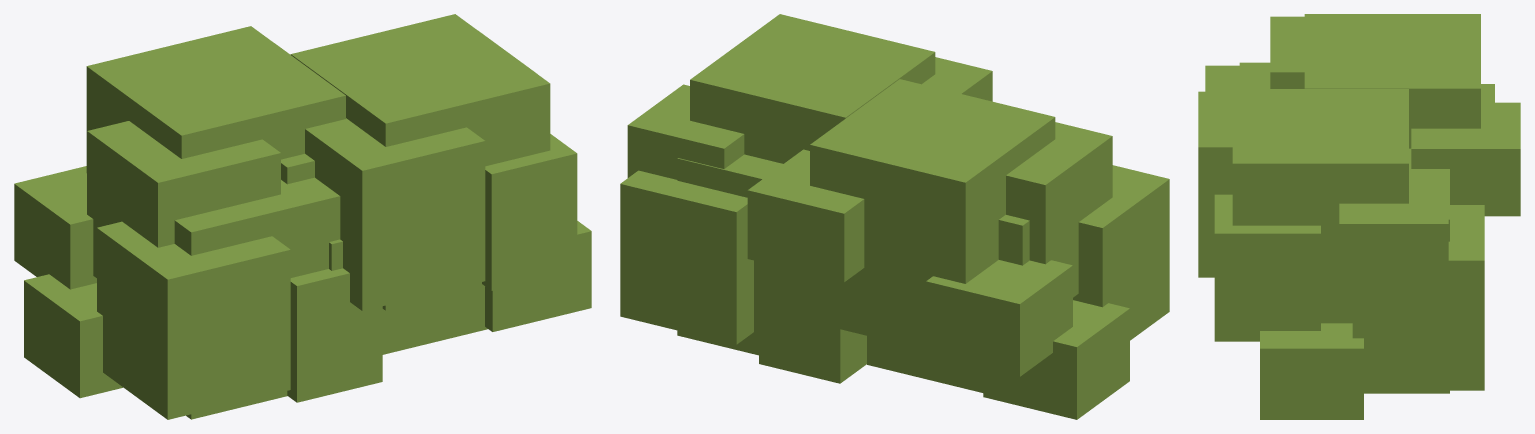
The model's file is SM_Bush_01_D.fbx.
3 views of the same model, side by side, from view 1: azimuth 30°, elevation 25°; view 2: azimuth 150°, elevation 25°; view 3: azimuth 270°, elevation 25° (orthographic). The views are drawn at different scales.
Visible parts, largest first — view 1: pCube267; view 2: pCube267; view 3: pCube267.
Boxes of the visible parts, box(x1,y1,x2,y2) form: pCube267: box(14, 14, 591, 419); pCube267: box(620, 14, 1169, 419); pCube267: box(1198, 14, 1520, 419).
Bounding box in the file's own units: 94.75 × 47.92 × 59.8.
